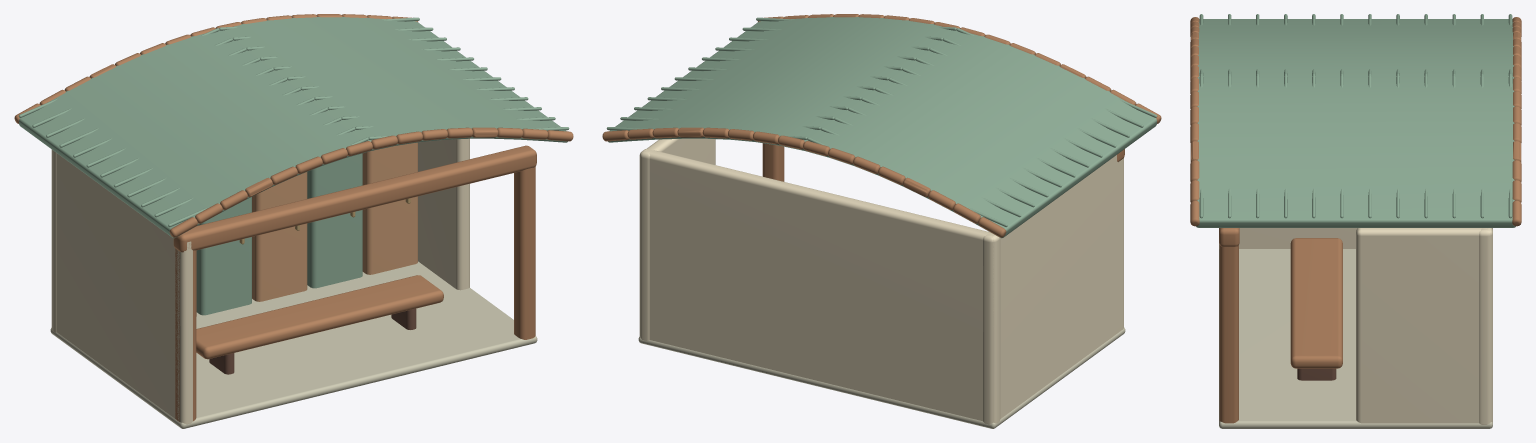
File: changing.glb
3 renders of one model, left to right at view 1: azimuth 30°, elevation 25°; view 2: azimuth 150°, elevation 25°; view 3: azimuth 270°, elevation 25°, orthographic. The views are drawn at different scales.
Parts seen in each view (by area): view 1: Roof_sage, Body_cream, Body_stone, Body_wood, Body_cedar, Body_sage, Roof_wood, Body_darkwood; view 2: Body_cream, Roof_sage, Roof_wood, Body_stone, Body_wood; view 3: Roof_sage, Body_cream, Body_stone, Body_wood, Roof_wood, Body_darkwood.
Boxes of the visible parts, x1,y1,x2,y2 form: Roof_sage: [18, 17, 569, 238]; Body_cream: [51, 138, 469, 424]; Body_stone: [50, 261, 537, 428]; Body_wood: [173, 145, 536, 421]; Body_cedar: [196, 142, 417, 316]; Body_sage: [196, 153, 362, 315]; Roof_wood: [14, 14, 573, 237]; Body_darkwood: [209, 308, 416, 374]; Body_cream: [639, 138, 1123, 424]; Roof_sage: [606, 17, 1157, 238]; Roof_wood: [602, 14, 1161, 237]; Body_stone: [638, 327, 1125, 428]; Body_wood: [762, 143, 1124, 181]; Roof_sage: [1196, 14, 1515, 227]; Body_cream: [1219, 228, 1492, 424]; Body_stone: [1219, 249, 1492, 428]; Body_wood: [1219, 228, 1342, 423]; Roof_wood: [1190, 17, 1521, 226]; Body_darkwood: [1297, 368, 1336, 380].
Size of the model in its own units: 5.52 by 3.37 by 3.81.
